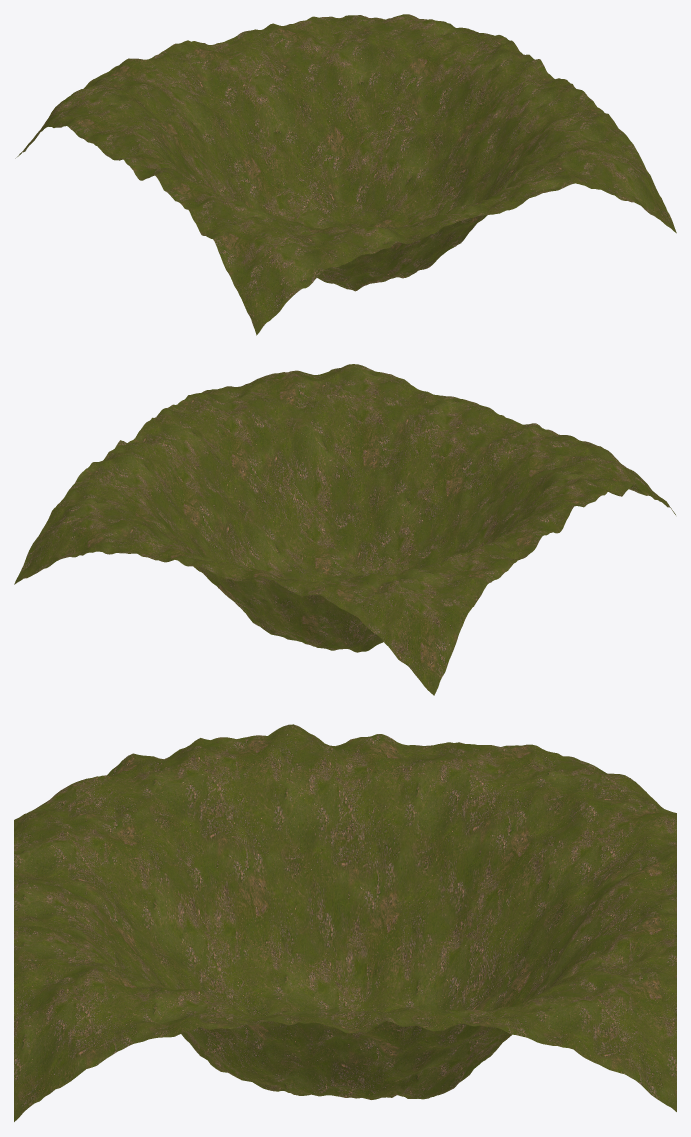
File: terrain_mesh_test_water.glb
3 views of the same model, one above another, from view 1: azimuth 30°, elevation 25°; view 2: azimuth 150°, elevation 25°; view 3: azimuth 270°, elevation 25° (orthographic). The views are drawn at different scales.
Visible parts, largest first — view 1: Plane; view 2: Plane; view 3: Plane.
Boxes of the visible parts, left/top/right/bottom form: Plane: left=15, top=14, right=676, bottom=335; Plane: left=14, top=364, right=675, bottom=695; Plane: left=14, top=724, right=676, bottom=1121.
Size of the model in its own units: 28.88 by 10.14 by 28.88.
Materials: 1 (1 with a texture image).
